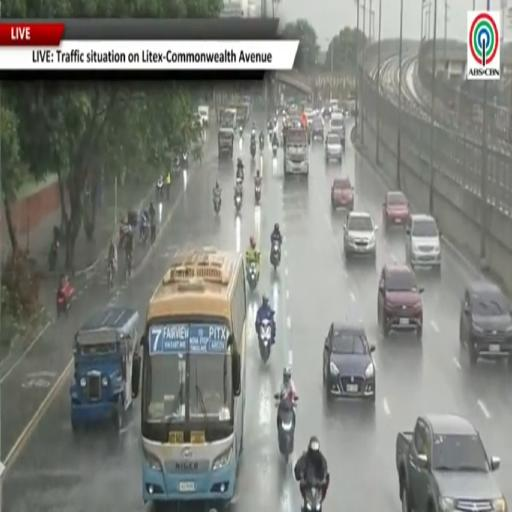bus: (141, 248, 247, 505)
car: (460, 281, 511, 366), (323, 324, 375, 402), (378, 263, 423, 339), (406, 214, 441, 274), (343, 212, 377, 261), (382, 190, 410, 230), (331, 178, 353, 211), (325, 133, 342, 163), (330, 112, 344, 136), (311, 117, 324, 141), (198, 105, 209, 127), (192, 114, 202, 131)
jeepney: (70, 307, 139, 430), (218, 127, 234, 157), (233, 103, 250, 127)
motorcycle: (274, 393, 298, 462), (302, 482, 325, 511), (56, 280, 74, 317), (258, 318, 272, 363), (48, 238, 59, 271), (270, 240, 281, 270), (247, 263, 258, 291), (140, 219, 148, 245), (108, 260, 114, 291), (156, 178, 164, 200), (172, 155, 181, 174), (234, 194, 242, 213), (150, 220, 156, 245), (213, 196, 221, 214), (255, 185, 261, 204), (237, 167, 244, 183), (182, 152, 188, 169), (272, 142, 278, 158), (251, 139, 255, 158), (260, 137, 264, 153), (239, 125, 243, 138)
truck: (396, 414, 506, 511), (283, 126, 309, 175), (220, 108, 237, 130)
